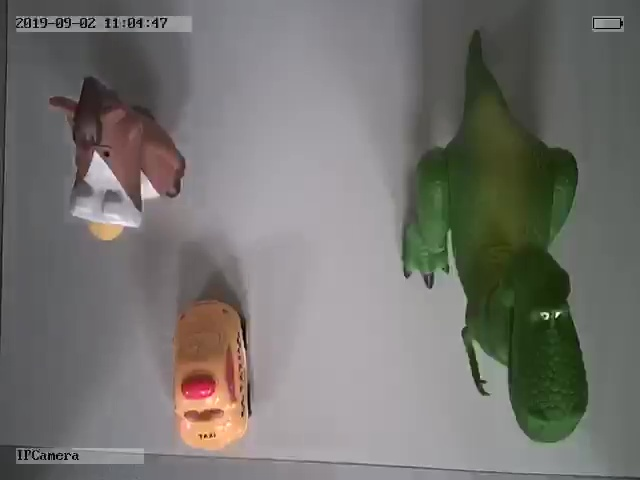car: (171, 297, 253, 447)
horse: (49, 79, 187, 242)
rex: (401, 50, 590, 443)
